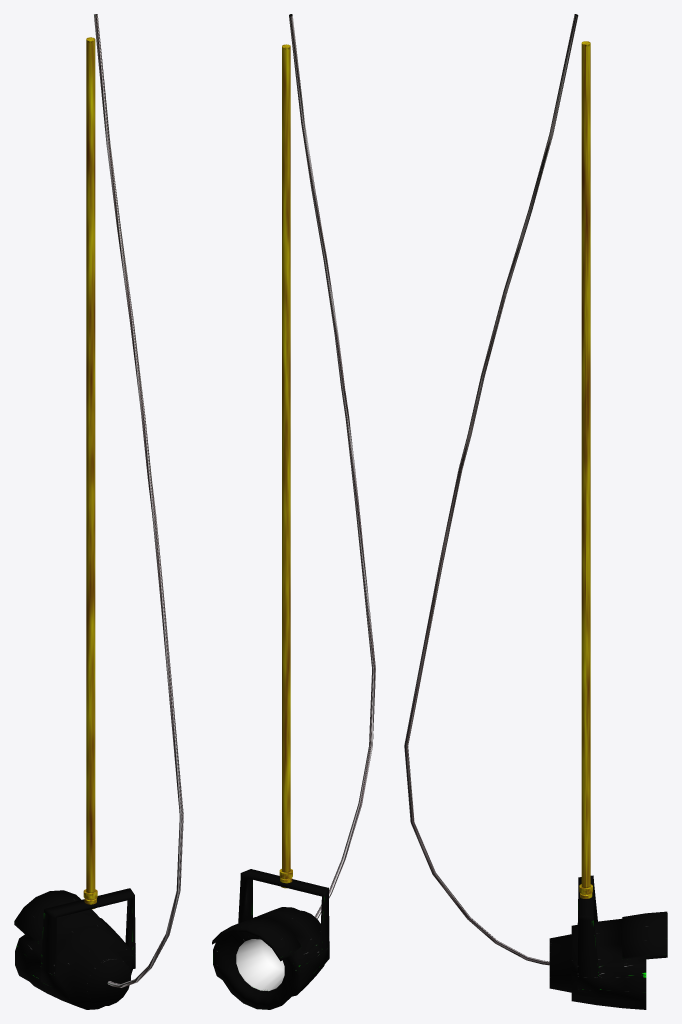
Rendered from Light_02.FBX.
3 renders of one model, left to right at view 1: azimuth 30°, elevation 25°; view 2: azimuth 150°, elevation 25°; view 3: azimuth 270°, elevation 25°, orthographic. The views are drawn at different scales.
Visible parts, largest first — view 1: Cylinder001, Cylinder003, Cylinder002; view 2: Cylinder001, Cylinder003, Cylinder002; view 3: Cylinder001, Cylinder003, Cylinder002.
Boxes of the visible parts, x1,y1,x2,y2 form: Cylinder001: [14, 888, 135, 1009]; Cylinder003: [83, 37, 97, 909]; Cylinder002: [94, 14, 183, 987]; Cylinder001: [212, 869, 329, 1009]; Cylinder003: [279, 44, 292, 888]; Cylinder002: [289, 14, 375, 918]; Cylinder001: [549, 875, 667, 1009]; Cylinder003: [579, 41, 592, 898]; Cylinder002: [404, 14, 578, 965].
Bounding box in the file's own units: 40.08 × 424 × 102.
Materials: 3 (3 with a texture image).
